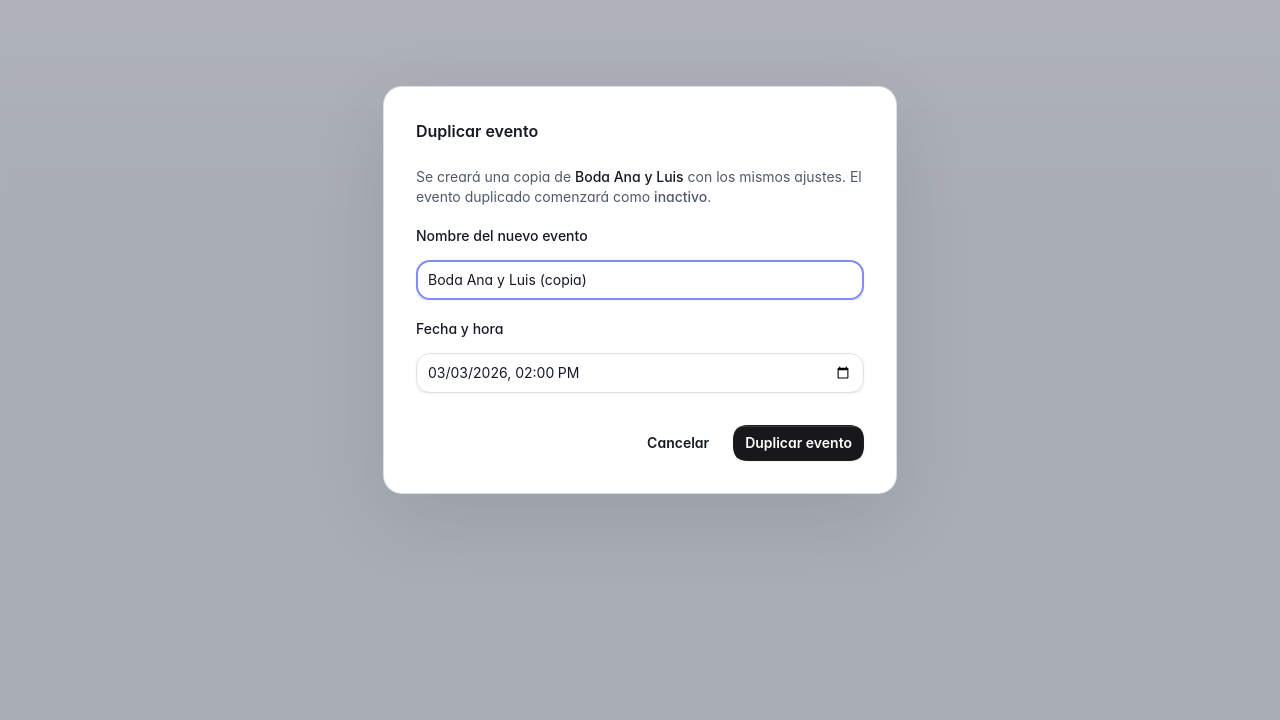
Scenario: EventDuplicateModal › shows a name over the backend limit inline
Click the button "Duplicar evento".
click(799, 442)  # box [733,424,864,460]
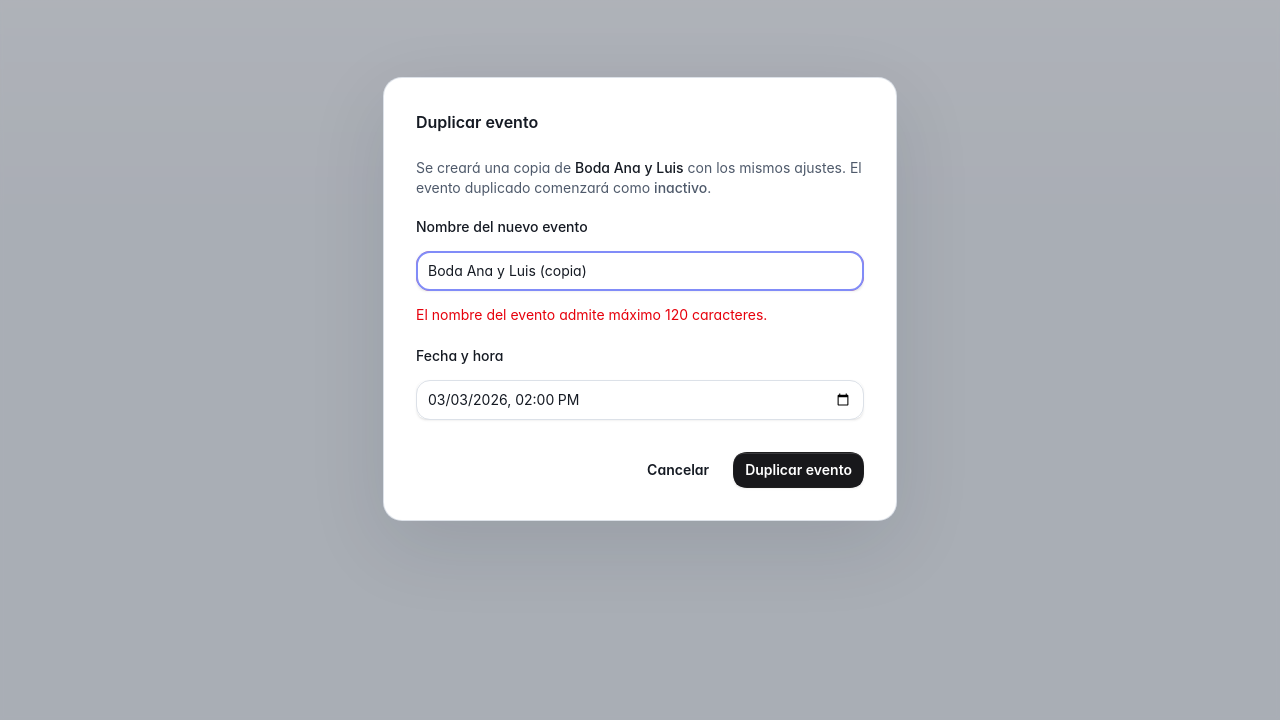
Check: the text "El nombre del evento admite máximo 120 caracteres." is shown, box [416,306,767,322]
